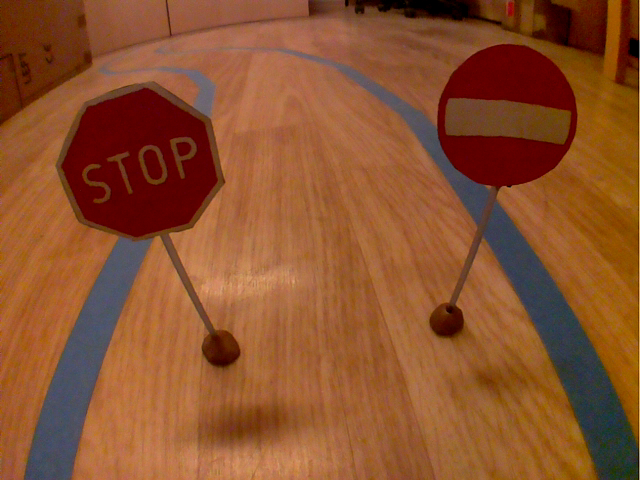Stop: (52, 78, 232, 245)
Zakaz: (430, 39, 581, 194)
